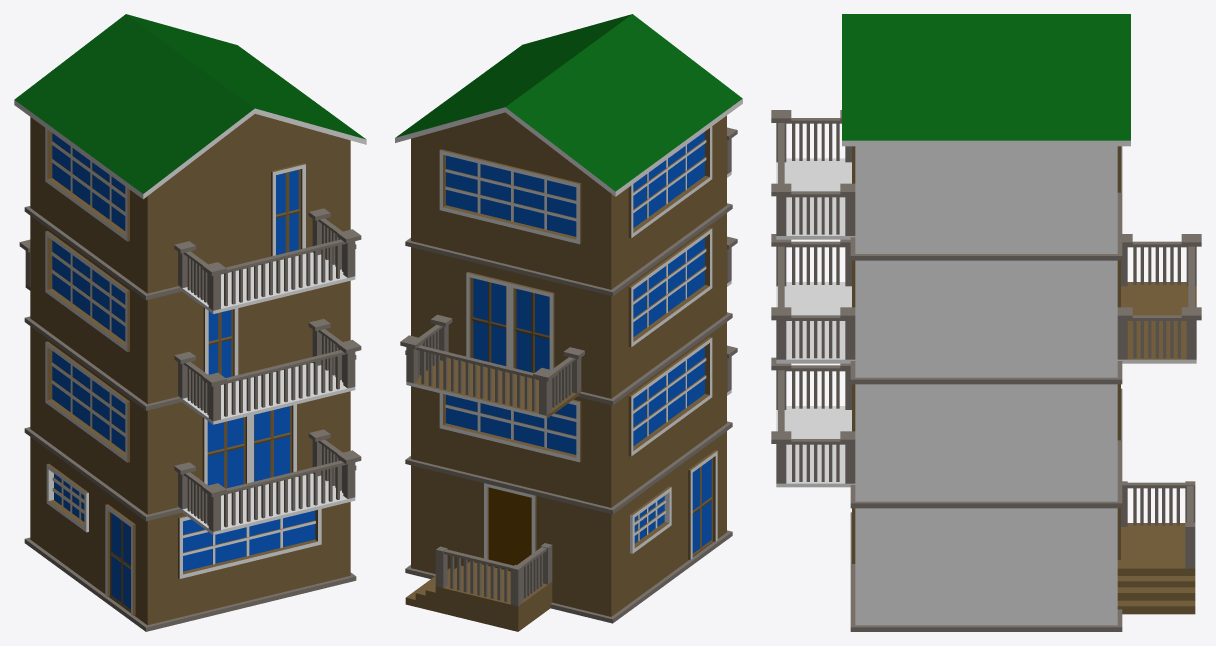
The model's file is House4floorsV1.fbx.
3 views of the same model, side by side, from view 1: azimuth 30°, elevation 25°; view 2: azimuth 150°, elevation 25°; view 3: azimuth 270°, elevation 25° (orthographic). The views are drawn at different scales.
Visible parts, largest first — view 1: House4floorV1; view 2: House4floorV1; view 3: House4floorV1.
Boxes of the visible parts, x1,y1,x2,y2 form: House4floorV1: (14, 14, 366, 631); House4floorV1: (395, 14, 742, 631); House4floorV1: (771, 14, 1201, 631).
Size of the model in its own units: 1314 by 2814 by 1956.
